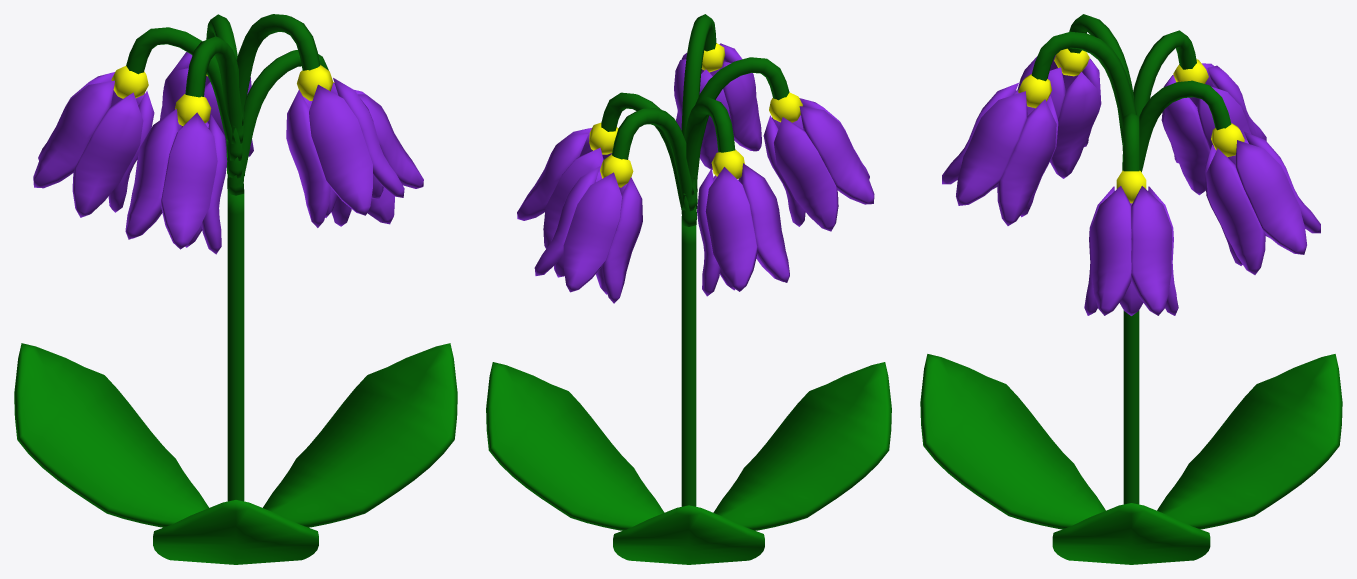
The model's file is bluebells_0003.obj.
The picture shows the model from 3 angles, left to right: view 1: azimuth 30°, elevation 25°; view 2: azimuth 150°, elevation 25°; view 3: azimuth 270°, elevation 25°; orthographic projection. The views are drawn at different scales.
Parts seen in each view (by area): view 1: bluebells_0003; view 2: bluebells_0003; view 3: bluebells_0003.
Boxes of the visible parts, bbox=[...] form: bluebells_0003: bbox=[14, 14, 457, 564]; bluebells_0003: bbox=[486, 14, 891, 564]; bluebells_0003: bbox=[920, 14, 1342, 564].
Size of the model in its own units: 2.26 by 3.16 by 2.35.
1 material, 1 textured.
